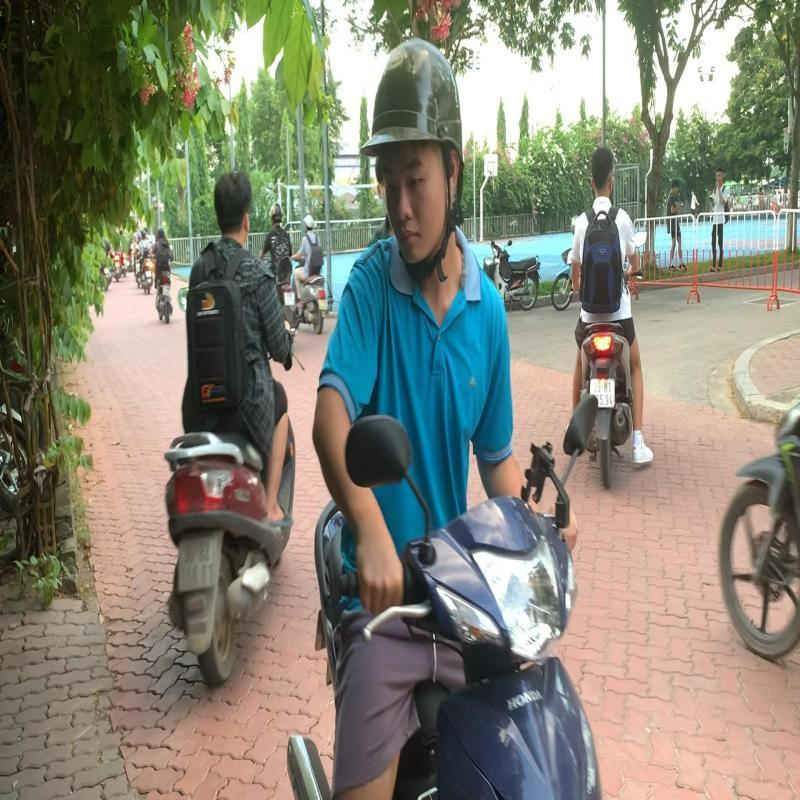licenseplate: (178, 534, 214, 593)
motorcyclist: (158, 164, 312, 685)
nohelmet: (213, 172, 254, 240)
